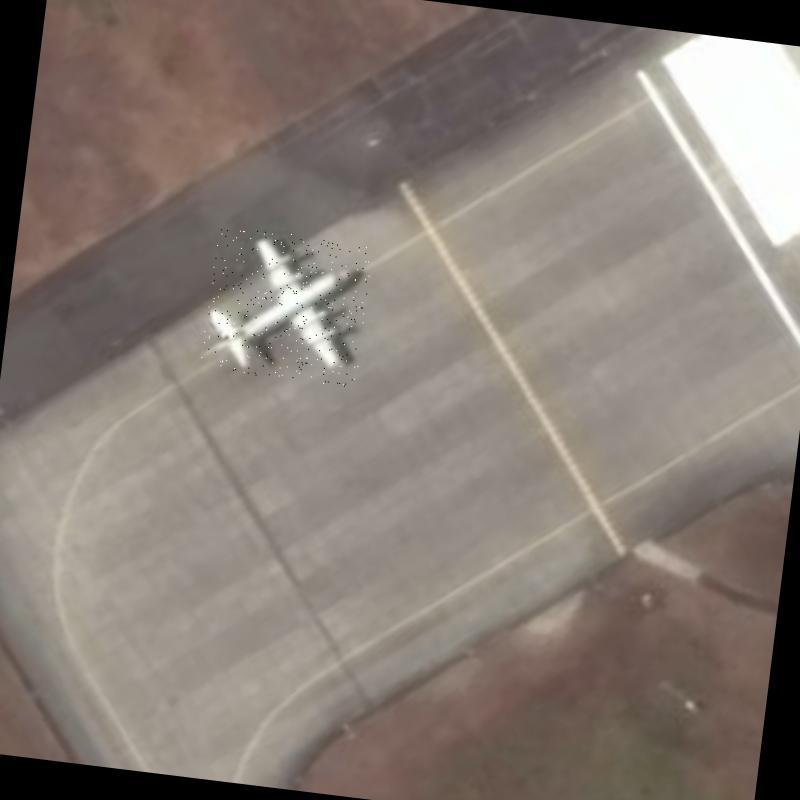A9: (199, 224, 373, 388)
